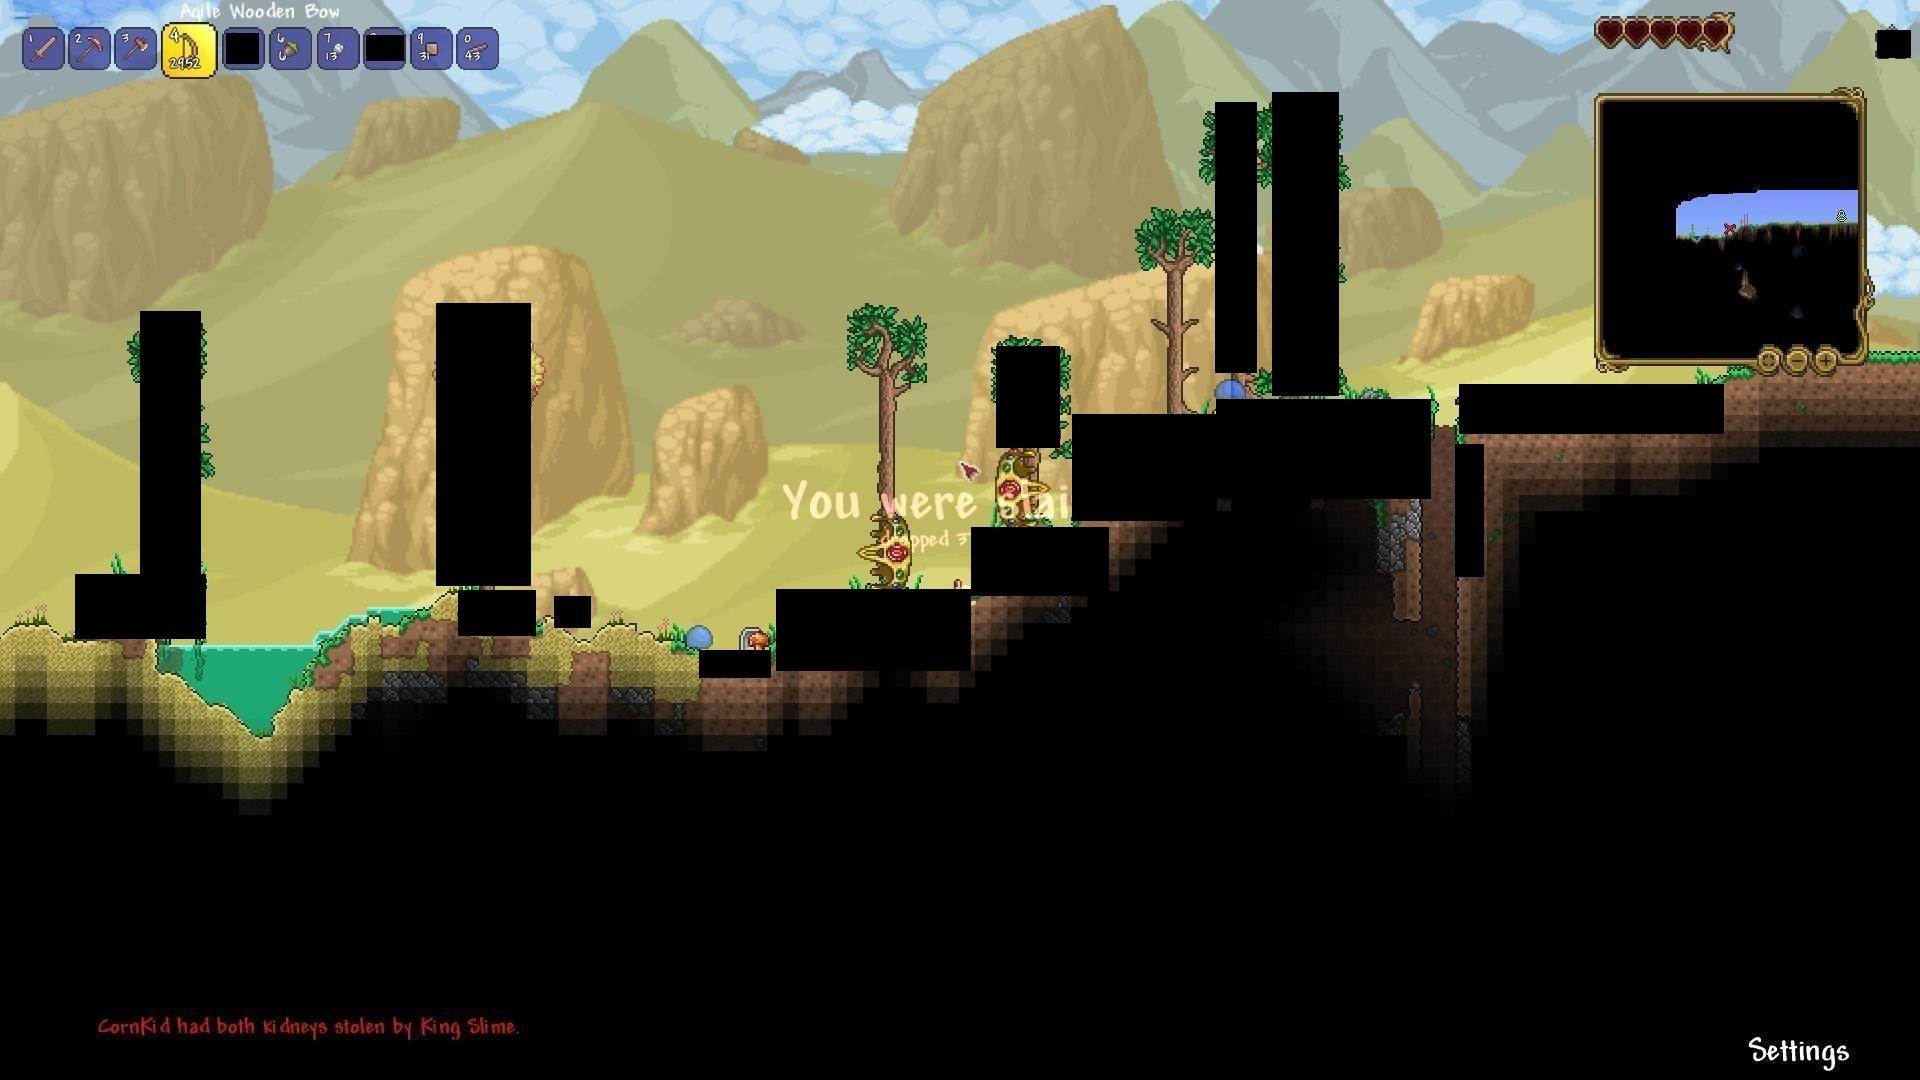slime: (1215, 375, 1250, 405), (680, 622, 717, 651)
tree: (1145, 195, 1205, 411), (855, 297, 915, 504)
